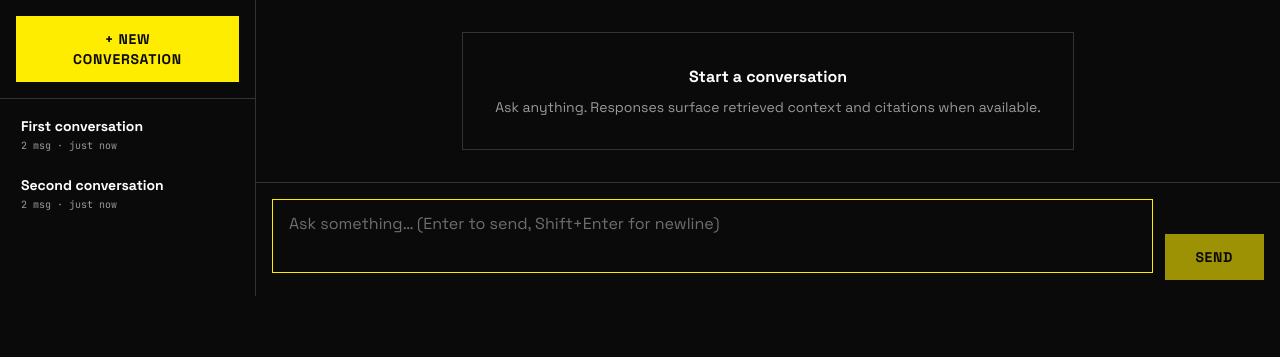
Test: AI Workspace › loads a conversation and renders messages
Click the text "First conversation".
click(82, 126)  # box [21,117,143,135]
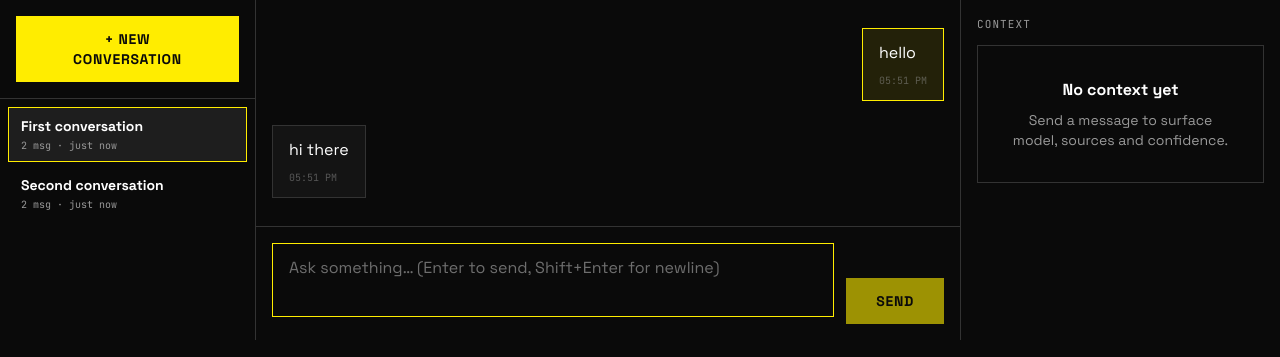
Result: the text "hello" is shown at [879,42,916,63]
Result: the text "hi there" is shown at [289,138,349,162]
